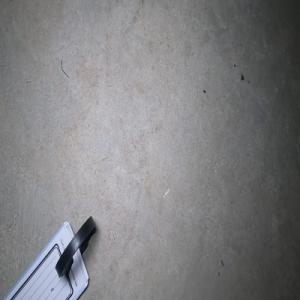LuggageTag: (0, 214, 96, 300)
